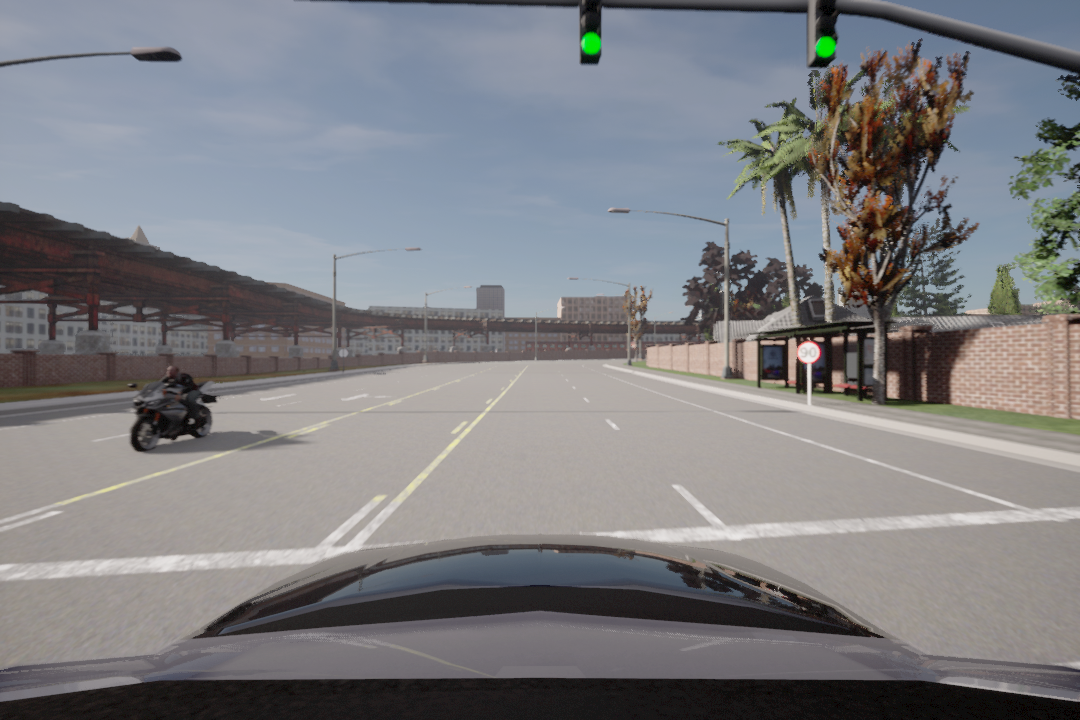TrafficLight: (802, 3, 843, 70), (577, 4, 602, 61)
